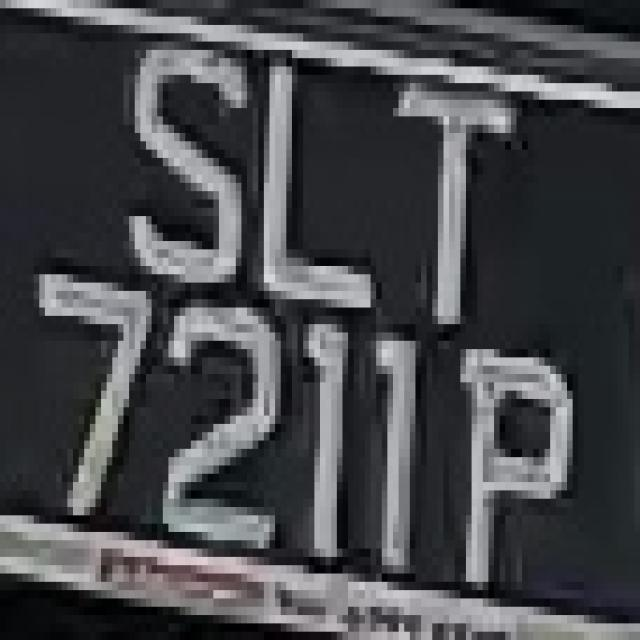1: (286, 291, 359, 548), (376, 299, 427, 557)
2: (163, 274, 281, 565)
7: (11, 241, 152, 532)
L: (230, 50, 388, 332)
P: (449, 324, 578, 607)
S: (112, 25, 247, 307)
T: (371, 67, 534, 349)
